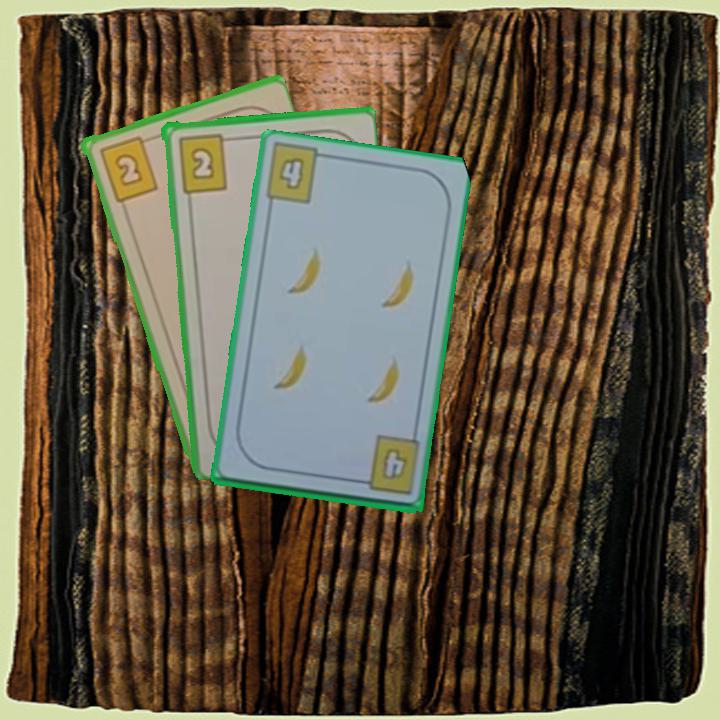2b: (95, 132, 160, 205), (174, 130, 235, 195)
4b: (351, 433, 419, 498), (275, 153, 307, 193)
